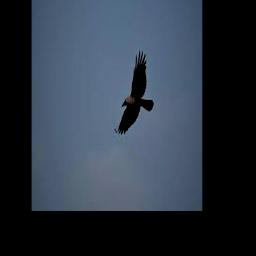Crow: (118, 50, 154, 134)
